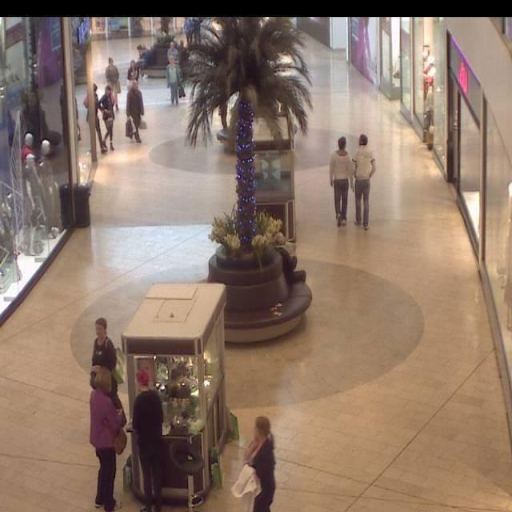person: (90, 367, 126, 512), (128, 367, 164, 512), (245, 415, 275, 512), (352, 132, 375, 227), (329, 135, 352, 226), (91, 320, 121, 370), (125, 80, 147, 143), (101, 85, 117, 152), (166, 56, 183, 105), (106, 56, 120, 90), (127, 60, 141, 83), (166, 40, 180, 58)
